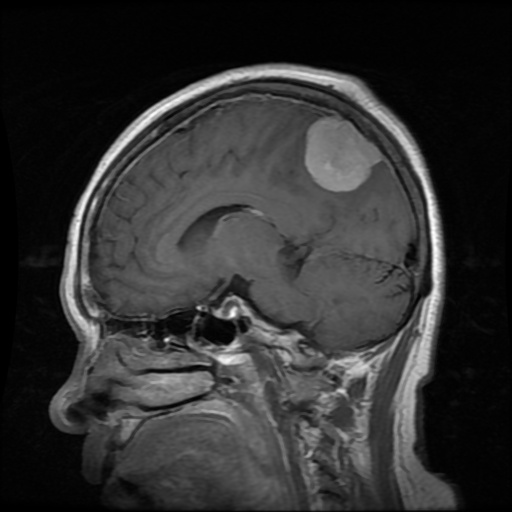meningioma: (304, 116, 378, 190)
